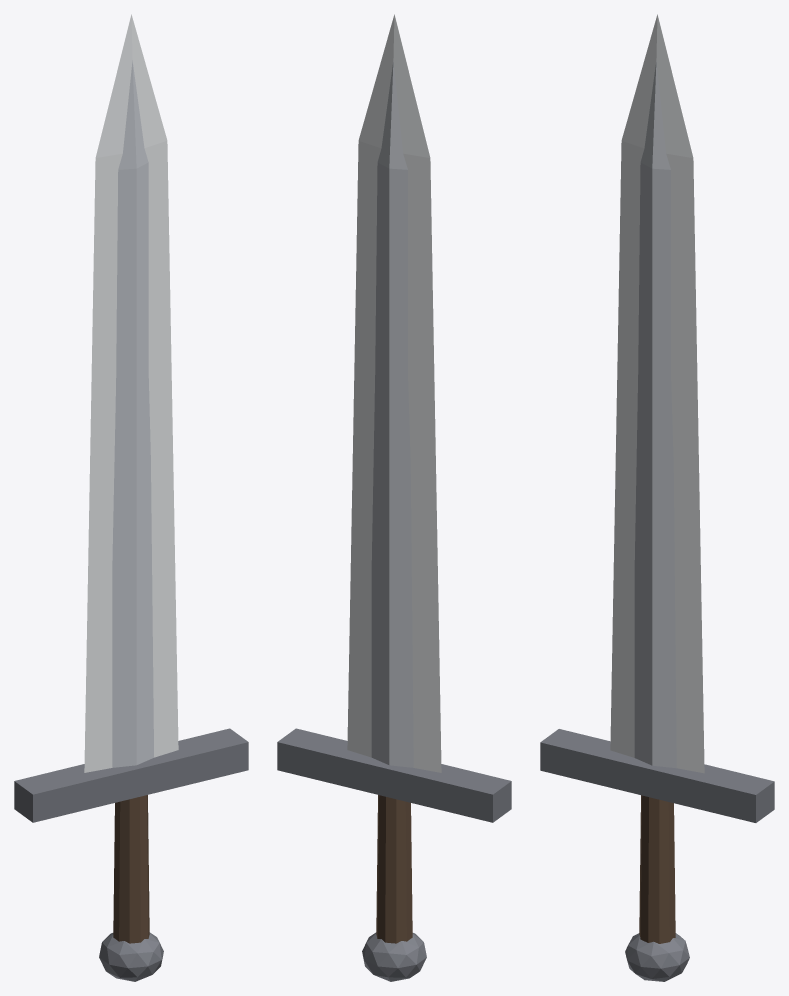
File: broadsword.glb
3 renders of one model, left to right at view 1: azimuth 30°, elevation 25°; view 2: azimuth 150°, elevation 25°; view 3: azimuth 330°, elevation 25°, orthographic.
Visible parts, largest first — view 1: broadsword; view 2: broadsword; view 3: broadsword.
Boxes of the visible parts, <box> form: broadsword: <box>14,14,248,981</box>; broadsword: <box>277,14,511,981</box>; broadsword: <box>540,14,774,981</box>.
Bounding box in the file's own units: 0.24 × 1.03 × 0.064.
